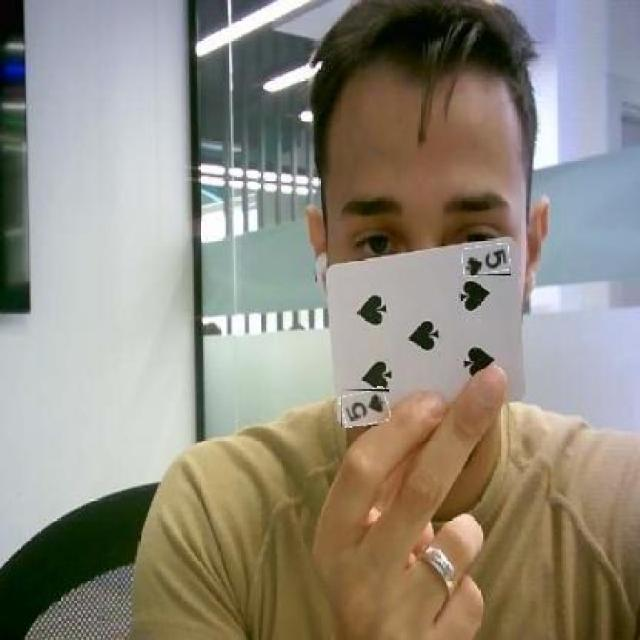5S: (340, 389, 389, 426), (463, 244, 511, 276)
